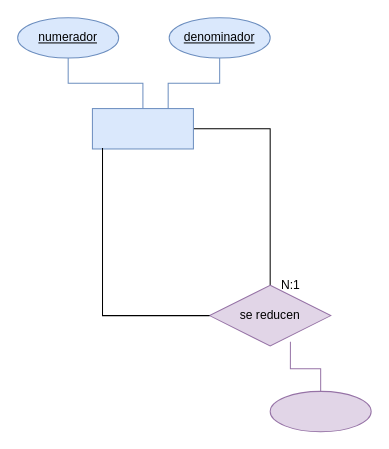
Some shapes in this 389 by 449 pixel diagram are drawn without their labels. The centre of each missing label's shape, as x and y in pixels:
factor_reduccion: the point at 320,411
FRACCION: the point at 142,128
